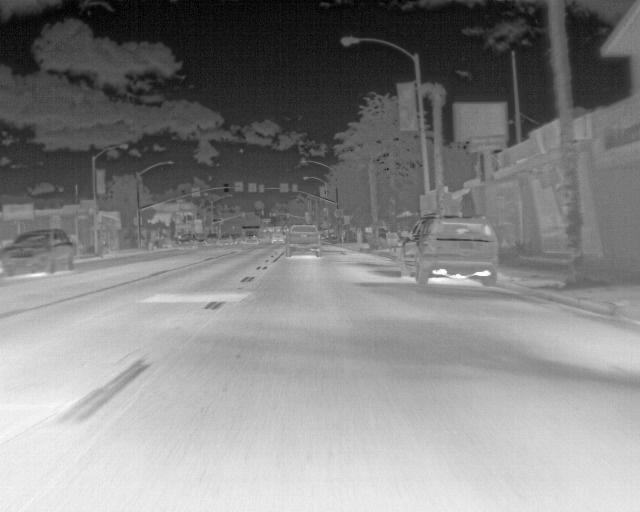car: (397, 214, 498, 289), (0, 228, 77, 279), (284, 223, 324, 257), (268, 229, 286, 245), (206, 232, 220, 248), (219, 232, 234, 246), (232, 232, 244, 246)
